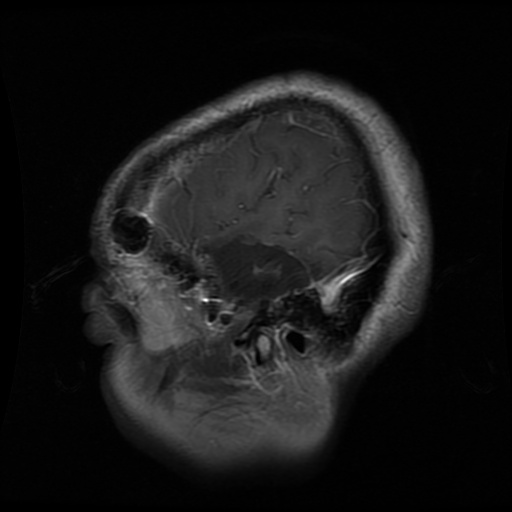glioma: (200, 238, 321, 300)
